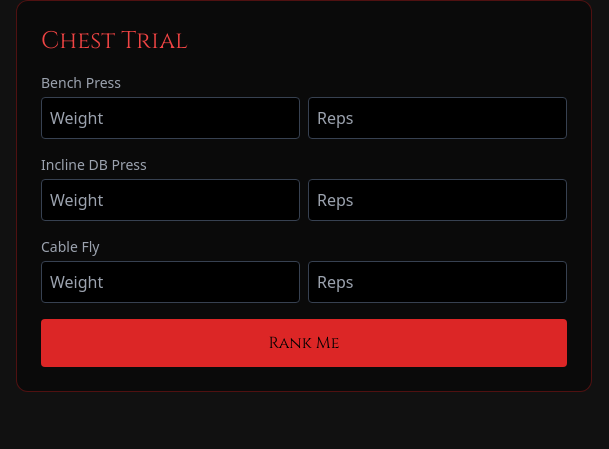
Test case: LiftRankForm › blocks submit and shows an error when fields are empty
Click the button "Rank Me" at (304, 343), box [41,319,567,367]
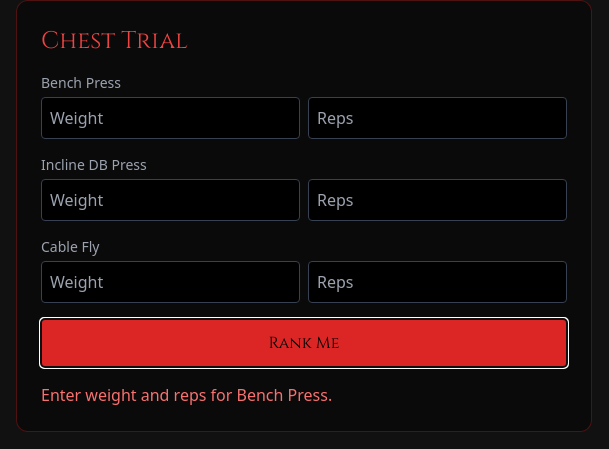
Now the message reads "Enter weight and reps for Bench Press.", box [41,384,332,406]
